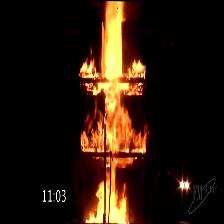fire: (100, 2, 129, 223)
